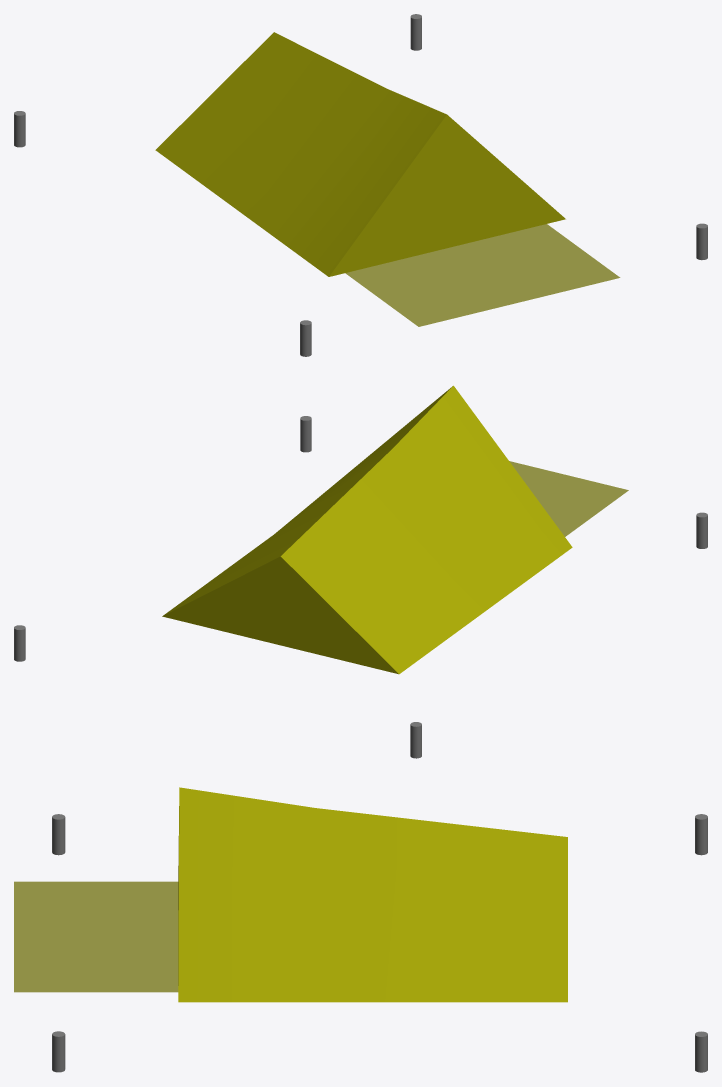
File: tent.fbx
3 views of the same model, one above another, from view 1: azimuth 30°, elevation 25°; view 2: azimuth 150°, elevation 25°; view 3: azimuth 270°, elevation 25° (orthographic). The views are drawn at different scales.
Visible parts, largest first — view 1: pCube3, pPlane1; view 2: pCube3, pPlane1; view 3: pCube3, pPlane1, pCylinder1, pCylinder2, pCylinder4, pCylinder3.
Part boxes in pixels (box(x1,y1,x2,y2)): pCube3: box(155, 32, 565, 276); pPlane1: box(345, 224, 620, 326); pCube3: box(162, 385, 572, 674); pPlane1: box(509, 461, 628, 536); pCube3: box(178, 787, 567, 1002); pPlane1: box(14, 881, 178, 992); pCylinder1: box(52, 1031, 65, 1072); pCylinder2: box(52, 814, 65, 855); pCylinder4: box(695, 1031, 707, 1072); pCylinder3: box(695, 814, 707, 855).
Bounding box in the file's own units: 8.06 × 2.9 × 10.6.
